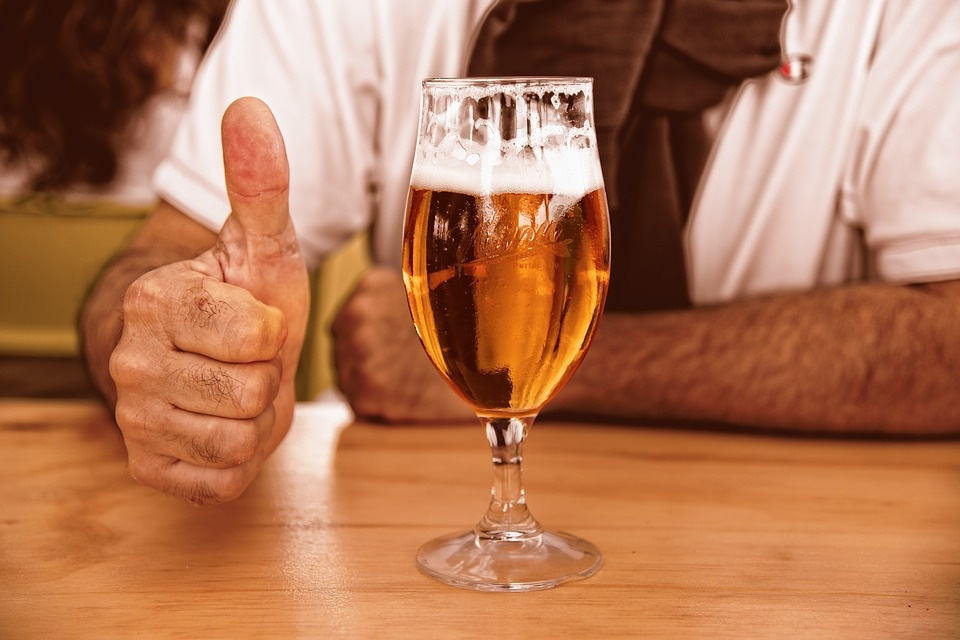glassBeer: (390, 66, 610, 494)
